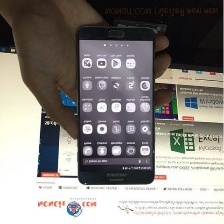phone: (72, 23, 158, 188)
